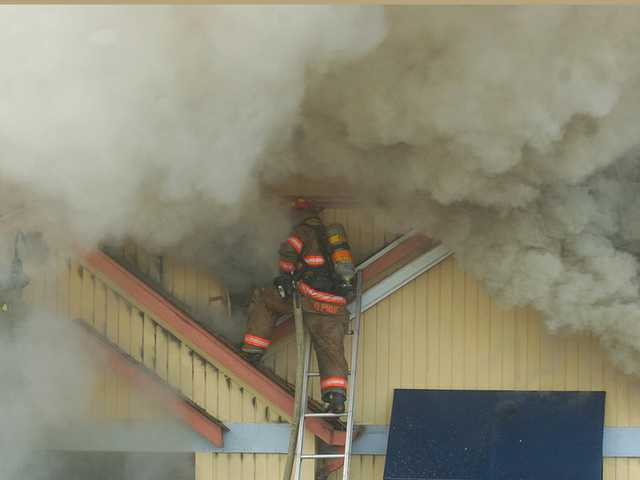smoke: (2, 1, 640, 221)
